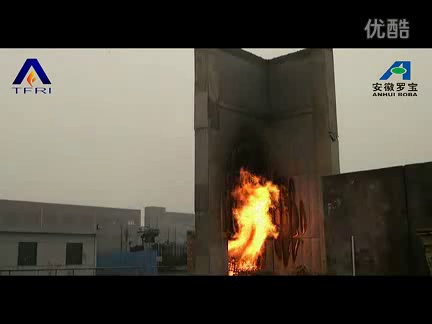fire: (223, 162, 282, 274)
